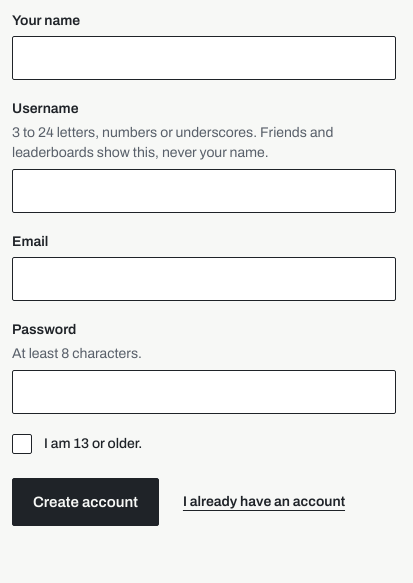
auth forms keep what was typed after a rejected submit › signup: keeps name, username, email and the age box; empties the password
Type "Sam Student" into the field labelled "Your name".
click(204, 58); type("Sam Student")  # box [12,36,396,80]
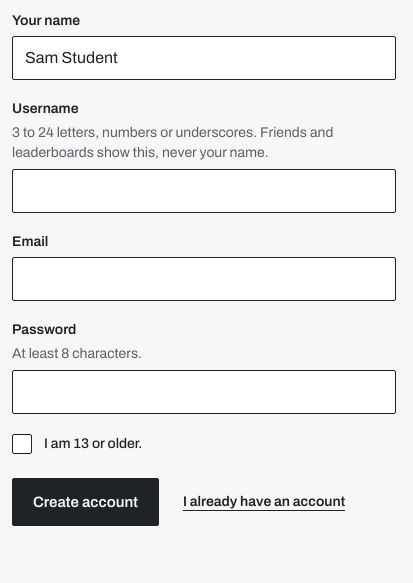
Type "sam_s" into the field labelled "Username".
click(204, 191); type("sam_s")  # box [12,169,396,213]
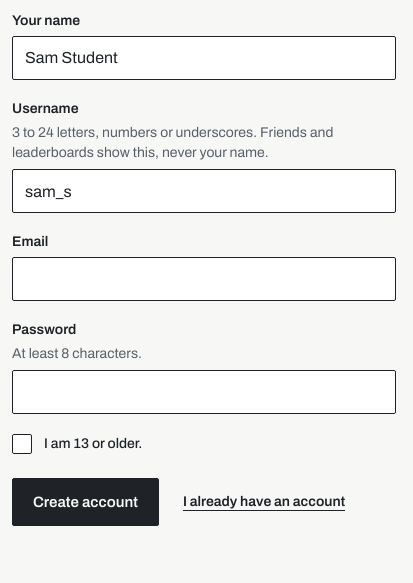
Type "sam@example.com" into the field labelled "Email".
click(204, 278); type("sam@example.com")  # box [12,256,396,300]
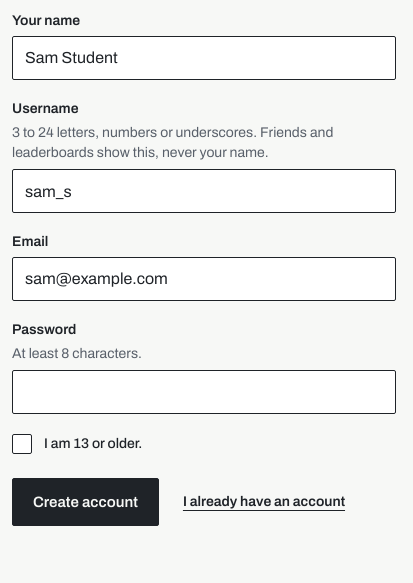
Type "long-enough-pw" into the password field labelled "Password".
click(204, 392); type("long-enough-pw")  # box [12,370,396,414]
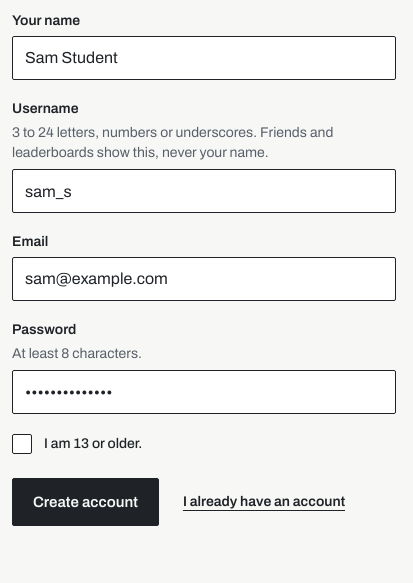
Click the checkbox labelled "I am 13 or older.".
click(22, 444)  # box [12,434,32,454]
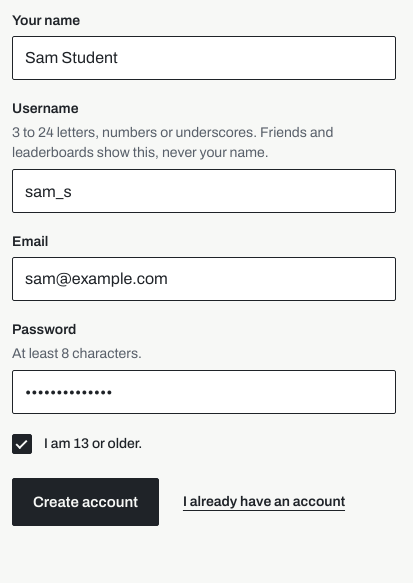
Submit the form named "Email"
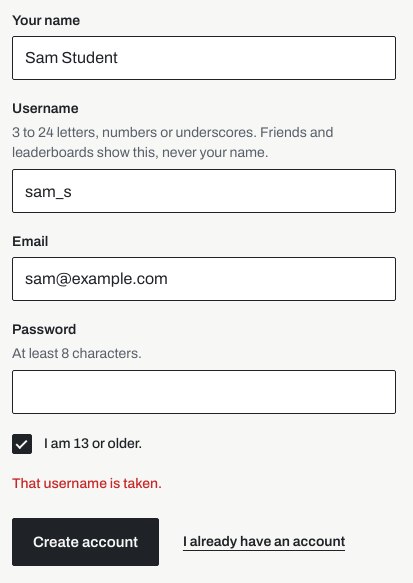
Expected: the field labelled "Your name" holds "Sam Student", [12,36,396,80]
Expected: the field labelled "Username" holds "sam_s", [12,169,396,213]
Expected: the message reads "That username is taken.", [12,476,162,491]
